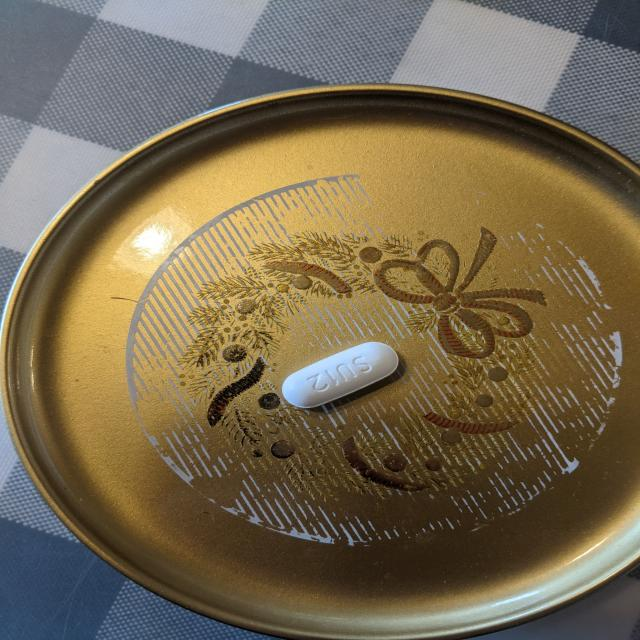non-organic waste: (281, 341, 400, 409)
